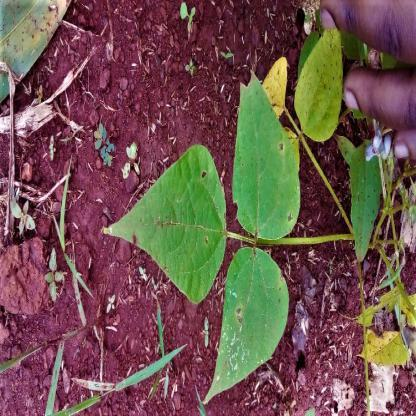Beans_Angular_LeafSpot: (105, 141, 228, 298), (199, 245, 291, 406), (238, 73, 304, 235), (348, 139, 382, 260)
